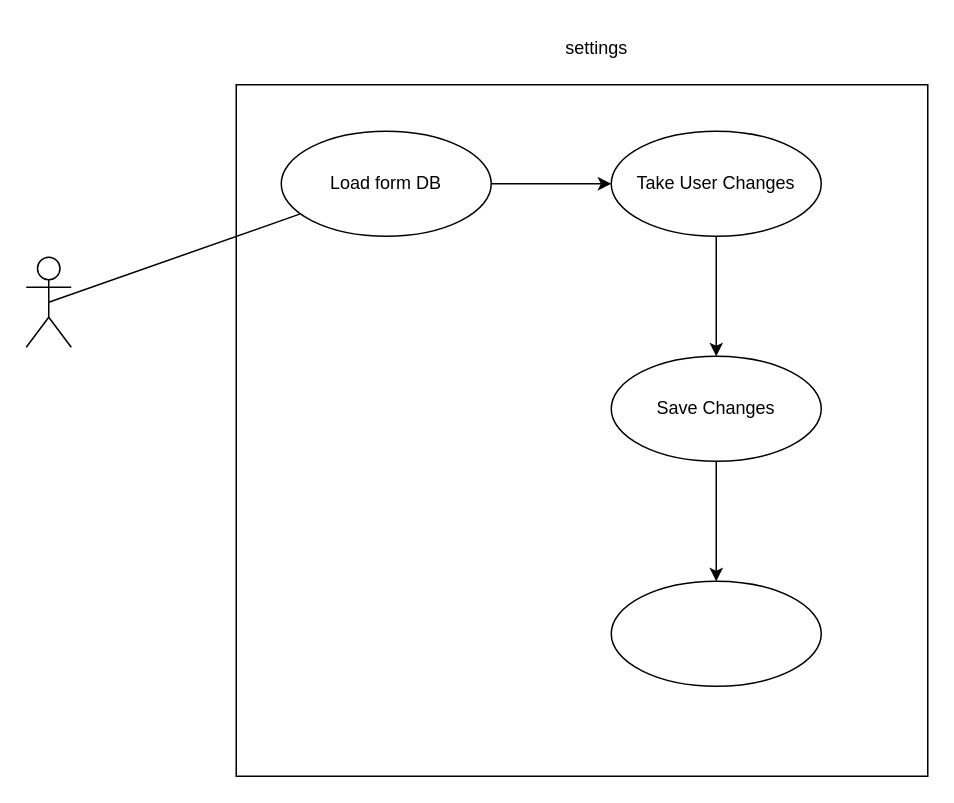
Image size: 954x803. Some labels were removed from this diagram. The box of each missing label's shape, as (x1, y1, x2, y2) in pixels:
Actor: (25, 256, 71, 347)
Apply Settings: (610, 580, 821, 686)
